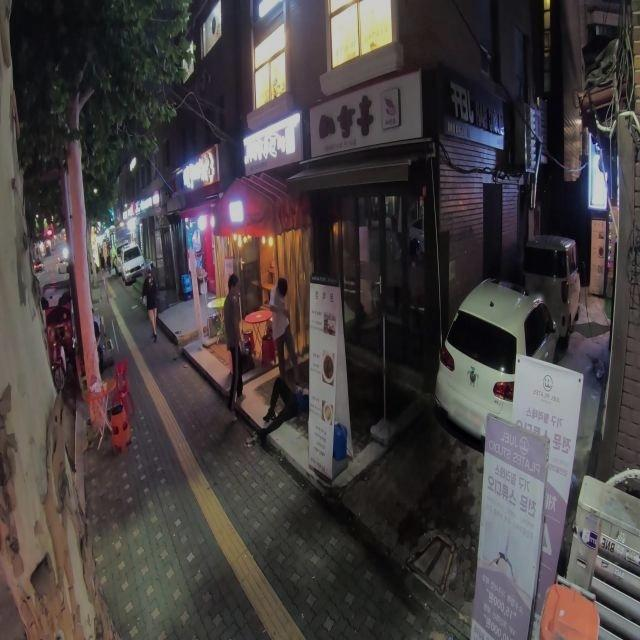non-fight: (250, 380, 311, 443), (266, 277, 302, 383), (223, 274, 244, 420), (142, 272, 160, 341)
